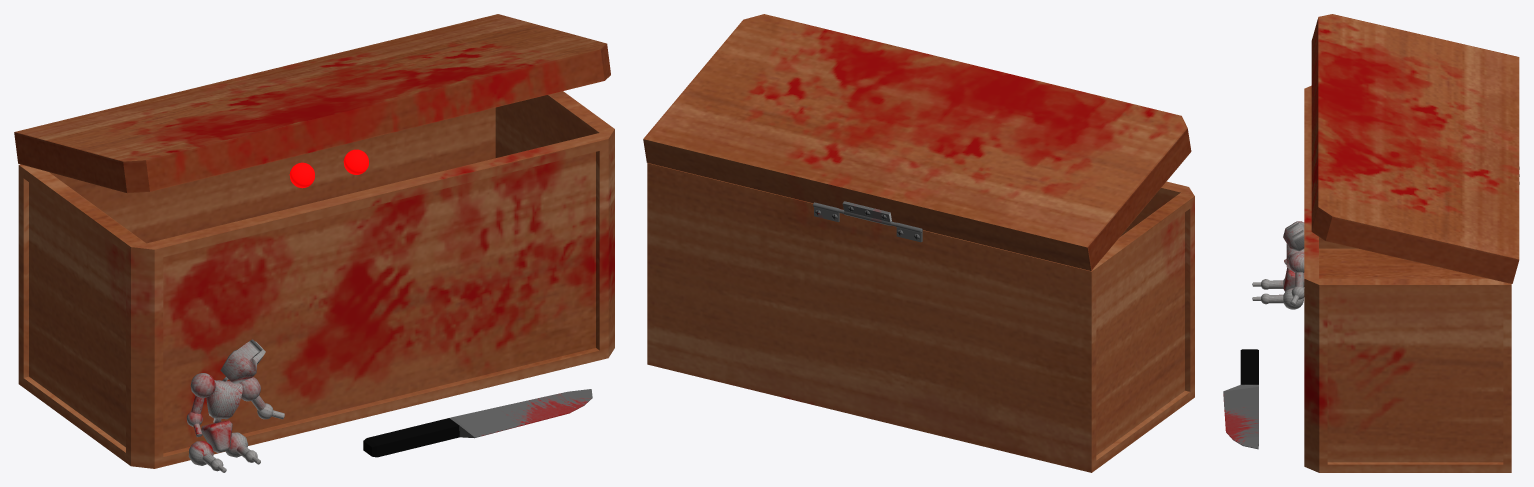
The model's file is horror_toy_chest.glb.
The picture shows the model from 3 angles, left to right: view 1: azimuth 30°, elevation 25°; view 2: azimuth 150°, elevation 25°; view 3: azimuth 270°, elevation 25°; orthographic projection. The views are drawn at different scales.
Visible parts, largest first — view 1: pCube1, pCube2, pCube9, pCube6, pCube7, pCube8, pSphere1; view 2: pCube1, pCube2, pCube3; view 3: pCube2, pCube1, pCube9, pCube6, pSphere2, pSphere7.
Part boxes in pixels (box(x1,y1,x2,y2)): pCube1: box(18, 91, 614, 468); pCube2: box(14, 14, 610, 193); pCube9: box(363, 389, 592, 457); pCube6: box(220, 339, 265, 383); pCube7: box(206, 380, 243, 423); pCube8: box(201, 420, 232, 452); pSphere1: box(190, 373, 215, 413); pCube1: box(647, 163, 1194, 472); pCube2: box(643, 14, 1191, 270); pCube3: box(842, 201, 892, 225); pCube2: box(1311, 14, 1519, 283); pCube1: box(1304, 85, 1511, 472); pCube9: box(1223, 349, 1258, 449); pCube6: box(1283, 221, 1304, 251); pSphere2: box(1288, 252, 1304, 287); pSphere7: box(1269, 288, 1303, 309).
Bounding box in the file's own units: 0.4375 × 0.2672 × 0.2708.
1 material, 1 textured.
